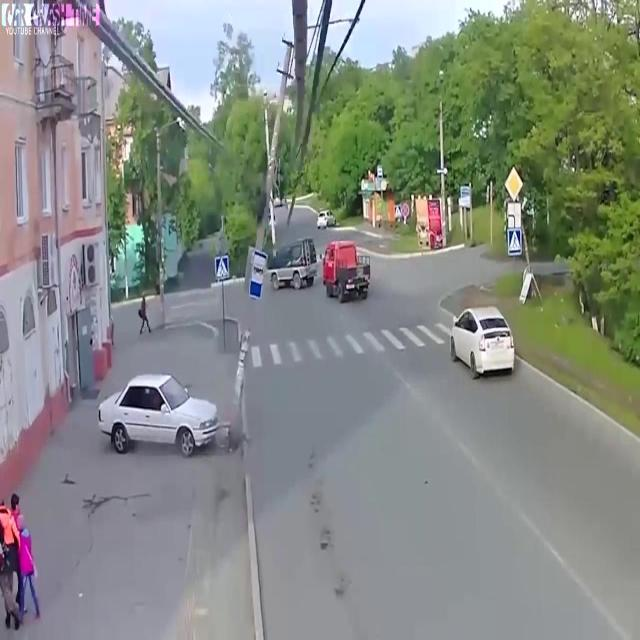accident: (81, 358, 267, 483)
non_accident: (262, 230, 376, 311)
